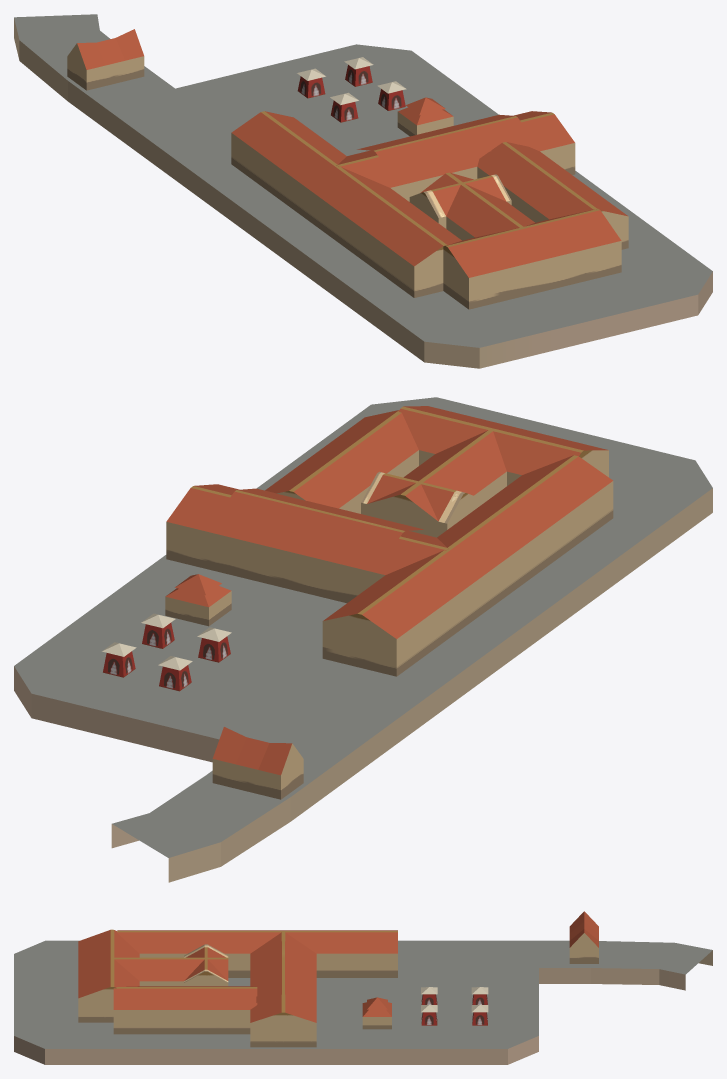
File: SM_TranQuoc_Pagoda.fbx
3 views of the same model, one above another, from view 1: azimuth 30°, elevation 25°; view 2: azimuth 150°, elevation 25°; view 3: azimuth 270°, elevation 25° (orthographic). The views are drawn at different scales.
Parts seen in each view (by area): view 1: SM_TranQuoc_Pagoda; view 2: SM_TranQuoc_Pagoda; view 3: SM_TranQuoc_Pagoda.
Part boxes in pixels (left/top/right/bottom): SM_TranQuoc_Pagoda: left=14, top=14, right=712, bottom=368; SM_TranQuoc_Pagoda: left=14, top=397, right=712, bottom=882; SM_TranQuoc_Pagoda: left=14, top=911, right=712, bottom=1064.
Bounding box in the file's own units: 39.43 × 9.37 × 108.
